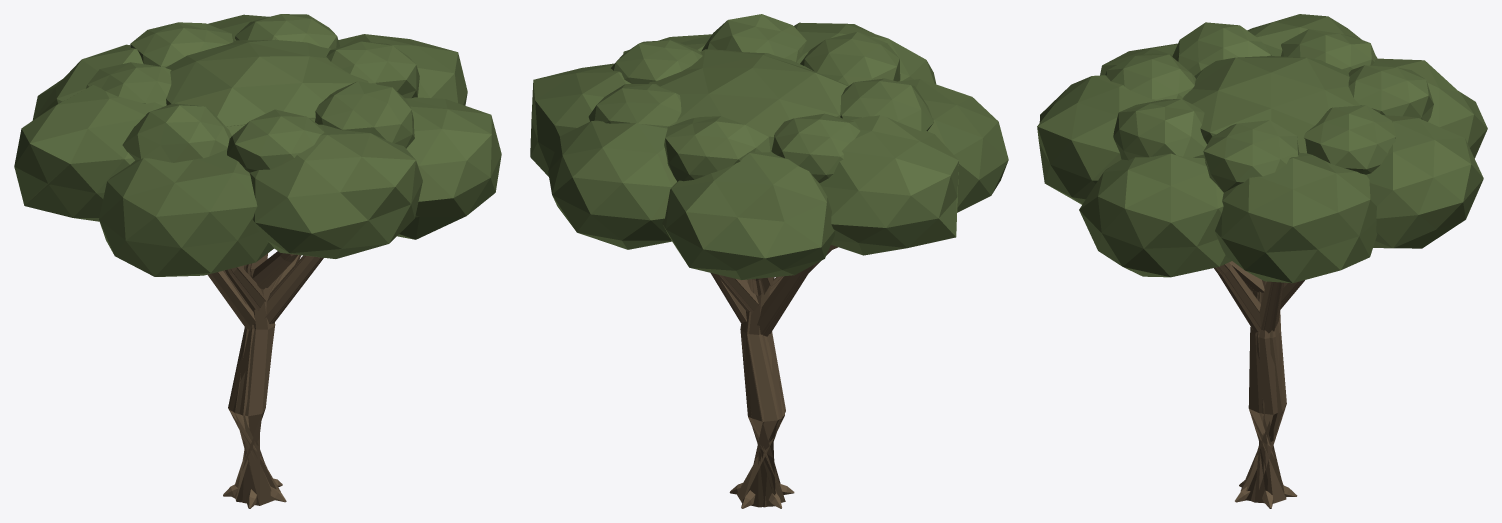
File: stone_pine.glb
The picture shows the model from 3 angles, left to right: view 1: azimuth 30°, elevation 25°; view 2: azimuth 150°, elevation 25°; view 3: azimuth 270°, elevation 25°; orthographic projection. The views are drawn at different scales.
Visible parts, largest first — view 1: stone_pine_detail, stone_pine_medium, stone_pine_far; view 2: stone_pine_detail, stone_pine_medium, stone_pine_far; view 3: stone_pine_detail, stone_pine_medium, stone_pine_far.
Boxes of the visible parts, <box> form: stone_pine_detail: <box>14,14,501,508</box>; stone_pine_medium: <box>26,117,321,502</box>; stone_pine_far: <box>217,265,274,505</box>; stone_pine_detail: <box>530,14,1008,508</box>; stone_pine_medium: <box>710,60,958,507</box>; stone_pine_far: <box>721,277,784,497</box>; stone_pine_detail: <box>1037,14,1487,508</box>; stone_pine_medium: <box>1182,68,1300,500</box>; stone_pine_far: <box>1224,263,1286,497</box>.
Bounding box in the file's own units: 8.24 × 7.95 × 7.62.
